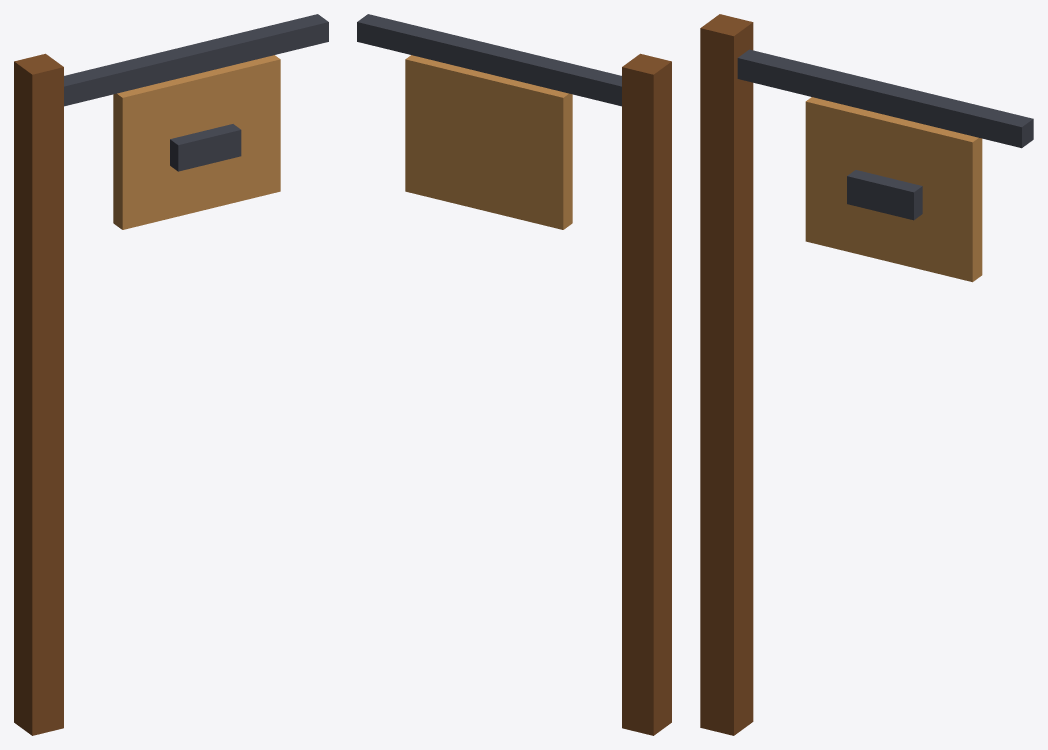
File: smithy_sign.glb
The picture shows the model from 3 angles, left to right: view 1: azimuth 30°, elevation 25°; view 2: azimuth 150°, elevation 25°; view 3: azimuth 330°, elevation 25°; orthographic projection. The views are drawn at different scales.
Parts seen in each view (by area): view 1: smithy_sign; view 2: smithy_sign; view 3: smithy_sign.
Boxes of the visible parts, left/top/right/bottom form: smithy_sign: left=14, top=14, right=328, bottom=735; smithy_sign: left=357, top=14, right=671, bottom=735; smithy_sign: left=700, top=14, right=1033, bottom=735.
Size of the model in its own units: 0.95 by 2 by 0.12.
